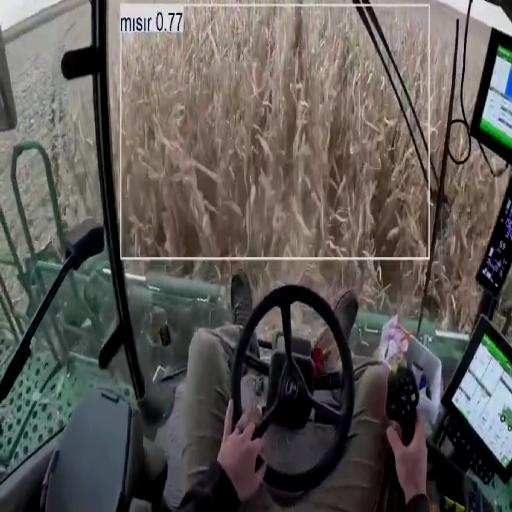misir: (118, 7, 430, 256), (375, 9, 455, 171), (424, 153, 491, 327)
